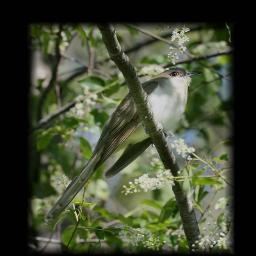Cuckoo: (41, 65, 204, 229)
